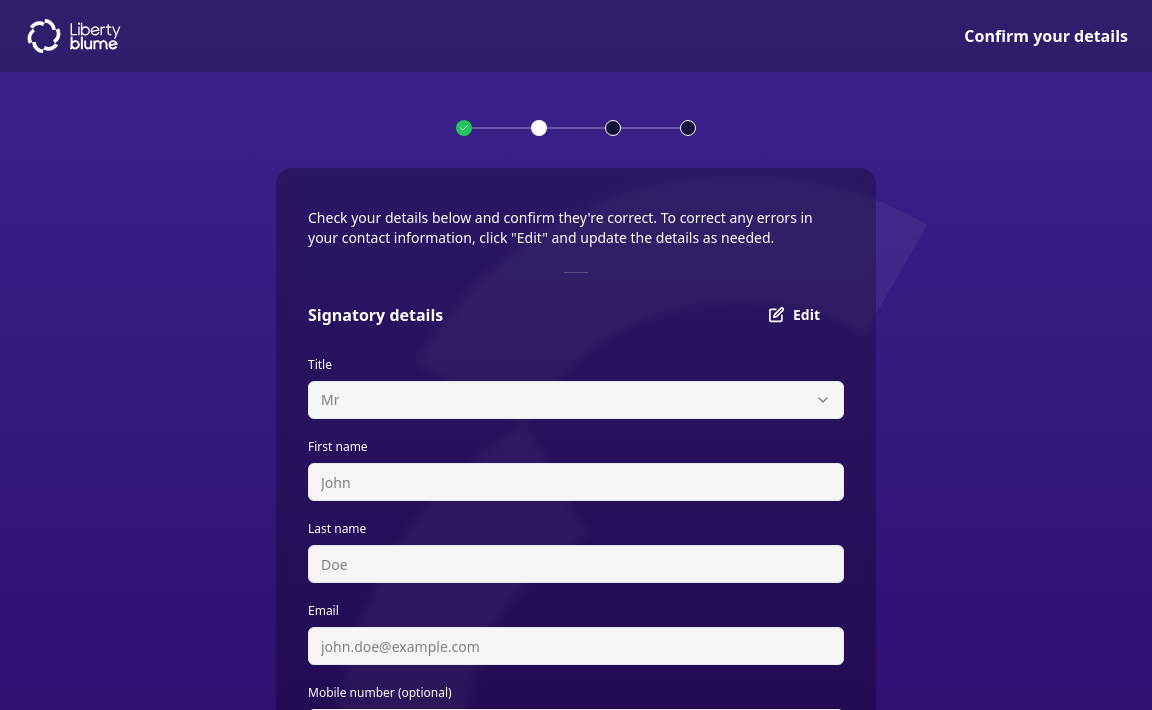
Test: ConfirmDetails › form fields disabled state › all form fields are enabled in edit mode
Click the button "Edit". click: (794, 315)
box: [745,297,844,333]
(page scrolled)
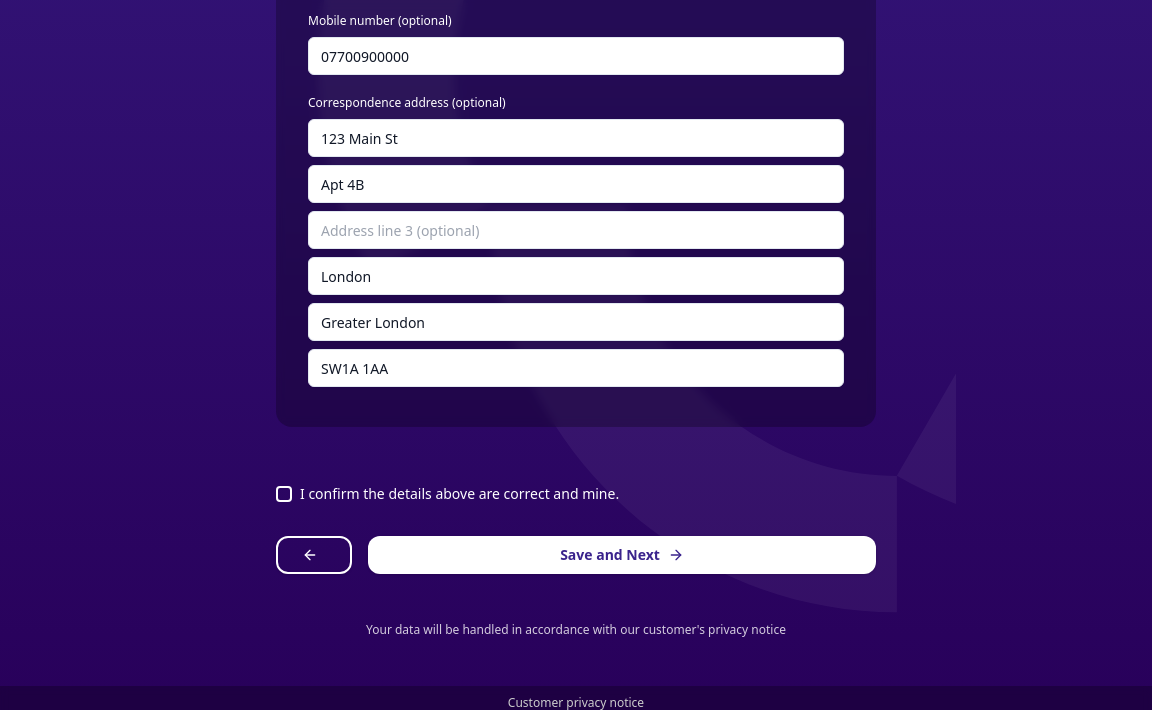
Now the field with placeholder "Mobile number (optional)" is enabled, box [308,37,844,75]
Now the 2nd field is enabled, box [308,119,844,157]
Now the 3rd field is enabled, box [308,165,844,203]
